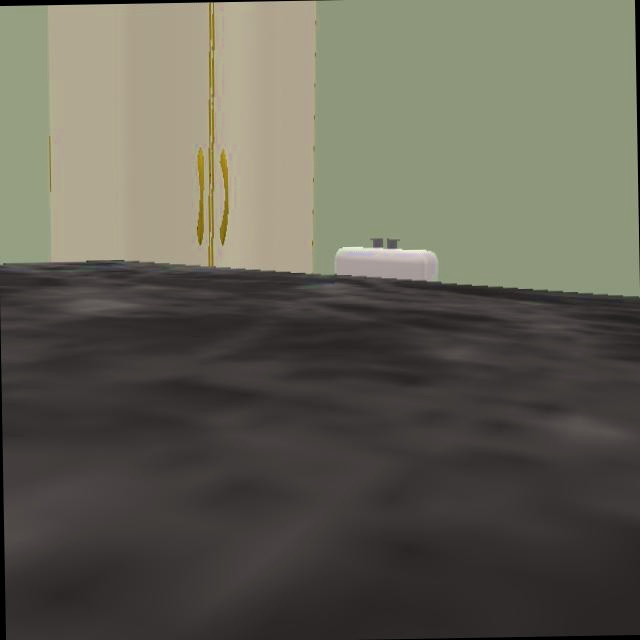shower: (45, 0, 315, 272)
toilet: (334, 239, 440, 285)
